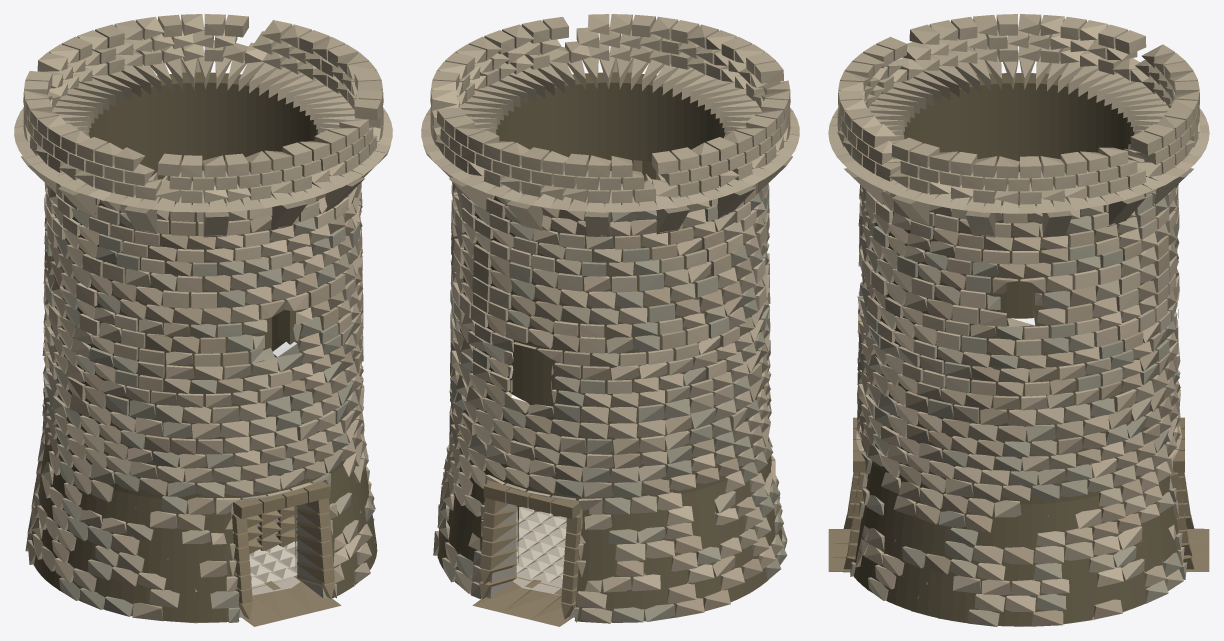
Rendered from Tour_V3_LOD2.fbx.
The picture shows the model from 3 angles, left to right: view 1: azimuth 30°, elevation 25°; view 2: azimuth 150°, elevation 25°; view 3: azimuth 270°, elevation 25°; orthographic projection.
Visible parts, largest first — view 1: V3_Distance2_V3_Fut_Granit_Exterieur, V3_Distance2_V3_Couronnement_Consoles, V3_Distance2_V3_Chaux_Coeur_Murs, V3_Distance2_V3_Embrasures_Linteaux_Seuils, V3_Distance2_V3_Retours_Pierres, V3_Distance2_V3_Dalles_Patine, V3_Distance2_V3_Joints_Embrasures, V3_Distance2_V3_Dallage_Continu; view 2: V3_Distance2_V3_Fut_Granit_Exterieur, V3_Distance2_V3_Couronnement_Consoles, V3_Distance2_V3_Chaux_Coeur_Murs, V3_Distance2_V3_Embrasures_Linteaux_Seuils, V3_Distance2_V3_Dalles_Patine, V3_Distance2_V3_Joints_Embrasures, V3_Distance2_V3_Dallage_Continu; view 3: V3_Distance2_V3_Fut_Granit_Exterieur, V3_Distance2_V3_Couronnement_Consoles, V3_Distance2_V3_Chaux_Coeur_Murs, V3_Distance2_V3_Embrasures_Linteaux_Seuils.
Part boxes in pixels (x1,y1,x2,y2): V3_Distance2_V3_Fut_Granit_Exterieur: (25, 182, 375, 623); V3_Distance2_V3_Couronnement_Consoles: (14, 14, 392, 237); V3_Distance2_V3_Chaux_Coeur_Murs: (31, 72, 377, 622); V3_Distance2_V3_Embrasures_Linteaux_Seuils: (232, 481, 341, 626); V3_Distance2_V3_Retours_Pierres: (247, 506, 297, 553); V3_Distance2_V3_Dalles_Patine: (249, 532, 297, 586); V3_Distance2_V3_Joints_Embrasures: (231, 480, 326, 617); V3_Distance2_V3_Dallage_Continu: (249, 547, 300, 595); V3_Distance2_V3_Fut_Granit_Exterieur: (433, 72, 787, 623); V3_Distance2_V3_Couronnement_Consoles: (421, 14, 799, 236); V3_Distance2_V3_Chaux_Coeur_Murs: (437, 72, 782, 622); V3_Distance2_V3_Embrasures_Linteaux_Seuils: (472, 481, 581, 626); V3_Distance2_V3_Dalles_Patine: (516, 507, 566, 586); V3_Distance2_V3_Joints_Embrasures: (487, 484, 582, 617); V3_Distance2_V3_Dallage_Continu: (513, 507, 566, 595); V3_Distance2_V3_Fut_Granit_Exterieur: (850, 184, 1187, 626); V3_Distance2_V3_Couronnement_Consoles: (828, 14, 1209, 237); V3_Distance2_V3_Chaux_Coeur_Murs: (854, 73, 1179, 626); V3_Distance2_V3_Embrasures_Linteaux_Seuils: (828, 417, 1209, 572).
Size of the model in its own units: 904 by 1214 by 904.
